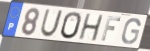8: (20, 7, 40, 37)
F: (100, 15, 122, 43)
G: (120, 17, 142, 46)
H: (77, 13, 105, 42)
O: (59, 11, 83, 40)
U: (39, 9, 65, 39)
